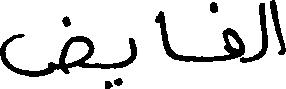X: (0, 11, 93, 81), (156, 6, 172, 63), (224, 23, 243, 67), (271, 0, 285, 59), (259, 0, 267, 63), (126, 33, 136, 70)
